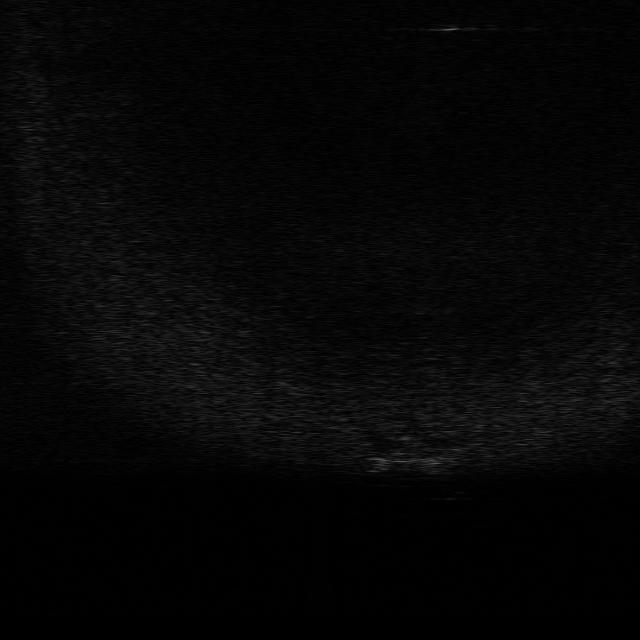plane: (366, 438, 470, 479)
